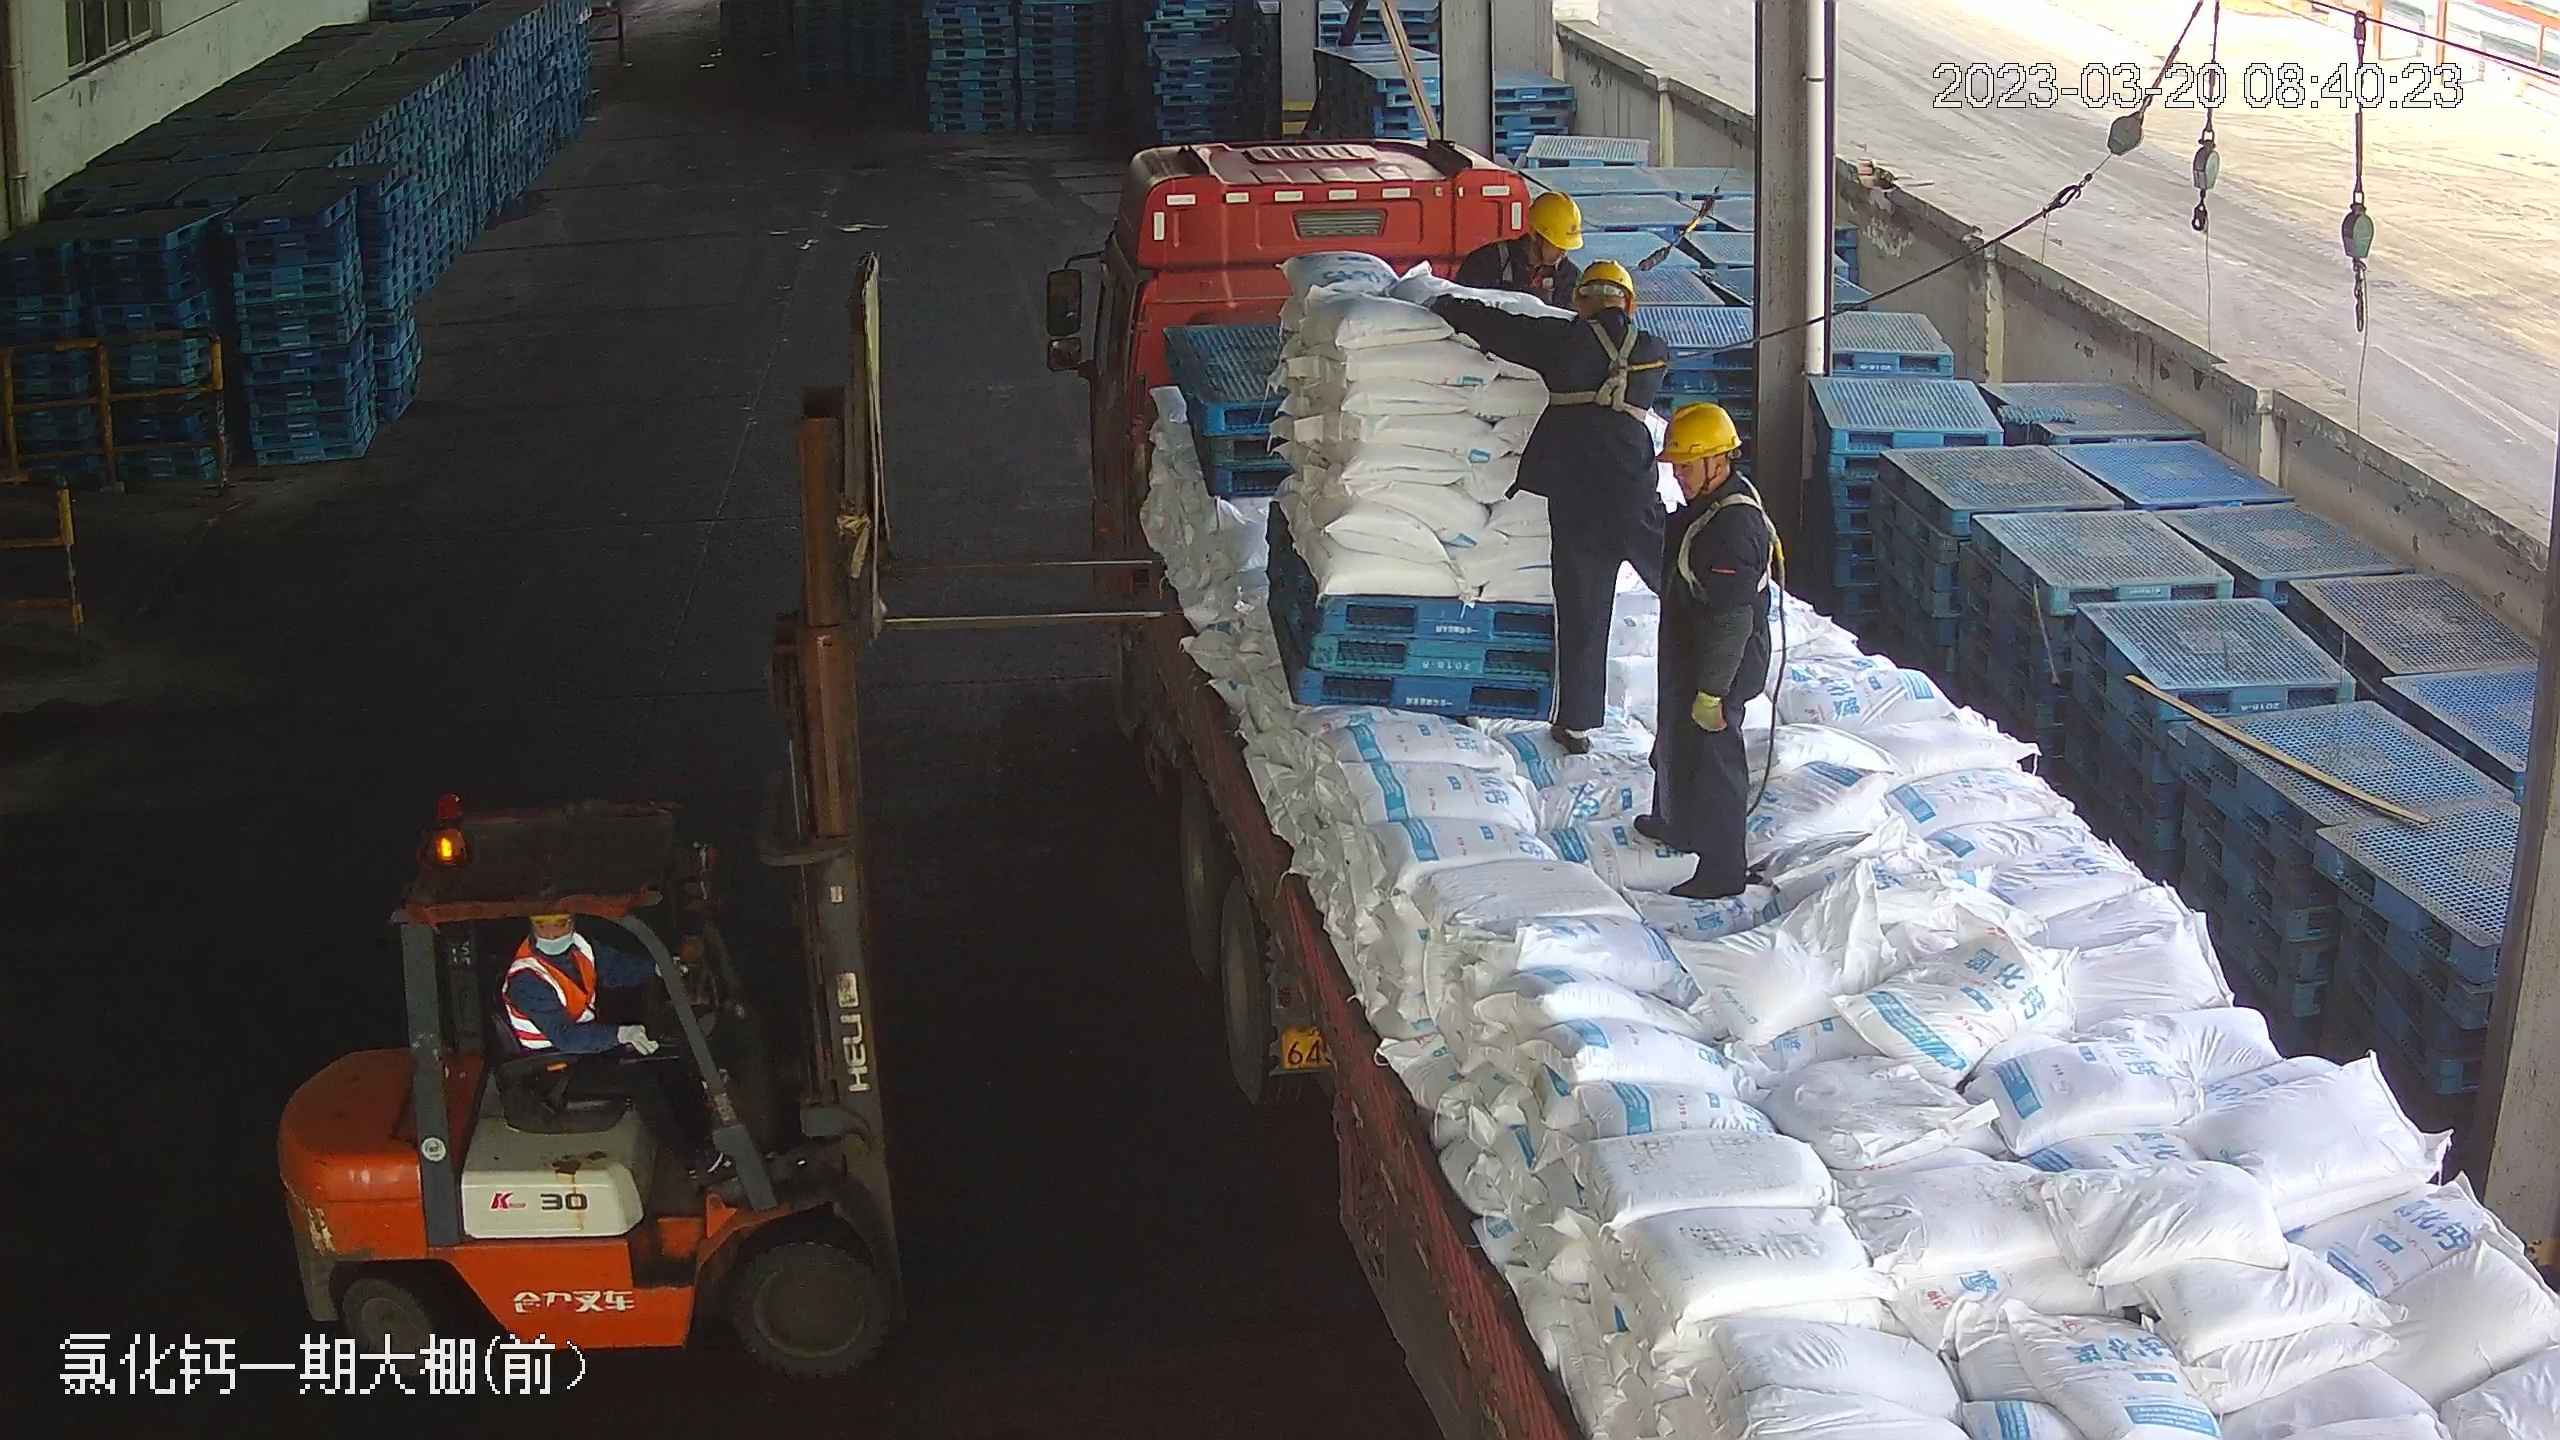belt: (1667, 480, 1794, 581), (1548, 315, 1662, 420), (1495, 235, 1568, 301)
head: (1650, 398, 1780, 557), (1536, 259, 1672, 378), (1465, 188, 1583, 286), (1657, 399, 1742, 466)
helmet: (1656, 399, 1740, 462), (1572, 257, 1639, 310), (1524, 188, 1583, 248)
people: (1449, 252, 1674, 760), (1638, 395, 1778, 904), (493, 902, 730, 1188)
truck: (1055, 142, 2493, 1440)
